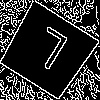L: (23, 26, 71, 79)
